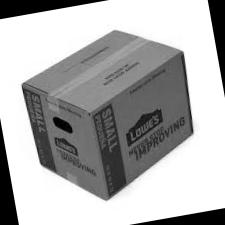cardboard: (8, 14, 222, 210)
